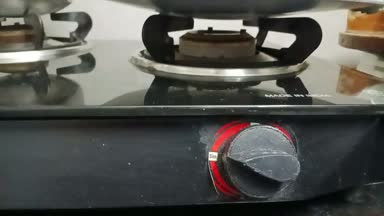noflame_gason: (136, 11, 356, 204)
